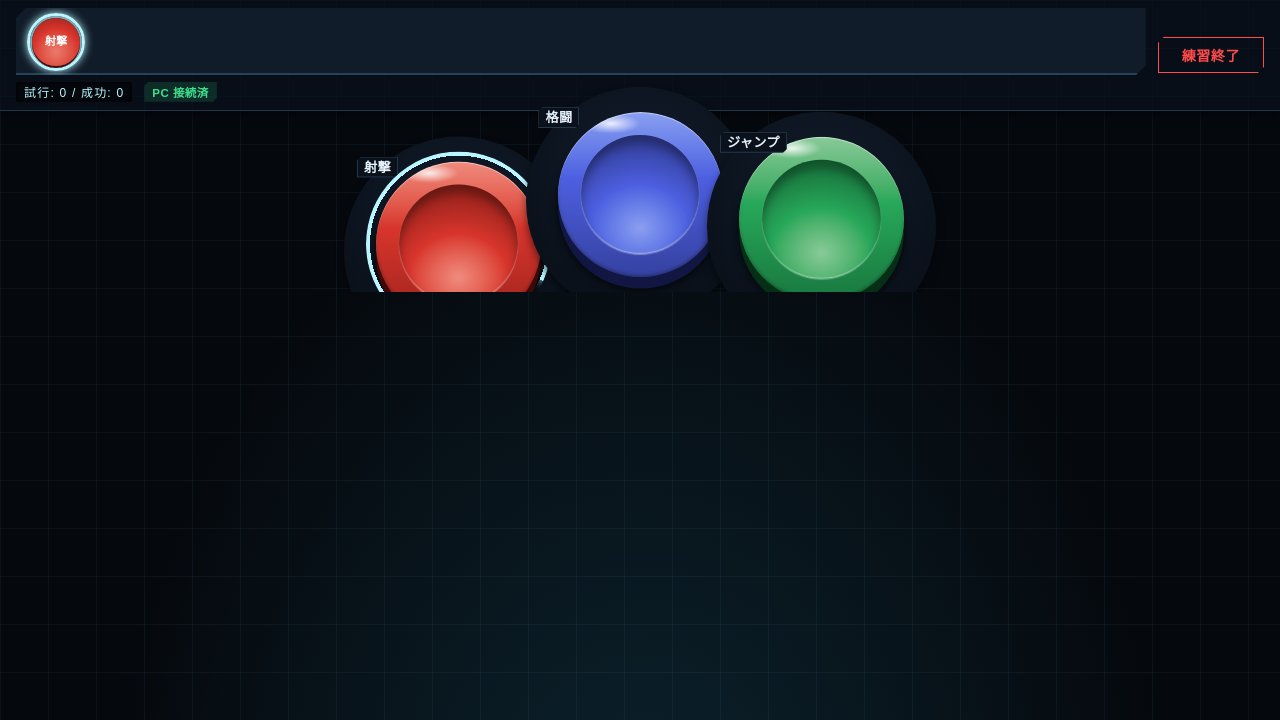
it: PracticeSession 入力リレー › つないでいれば接続状態を出し、生入力と解釈済み入力を送る
Expected: the button with test id "relay-status" reads "PC 接続済", [144,82,217,102]
Press the mouse on the button "射撃" at x=458, y=244, box [376,162,541,327]
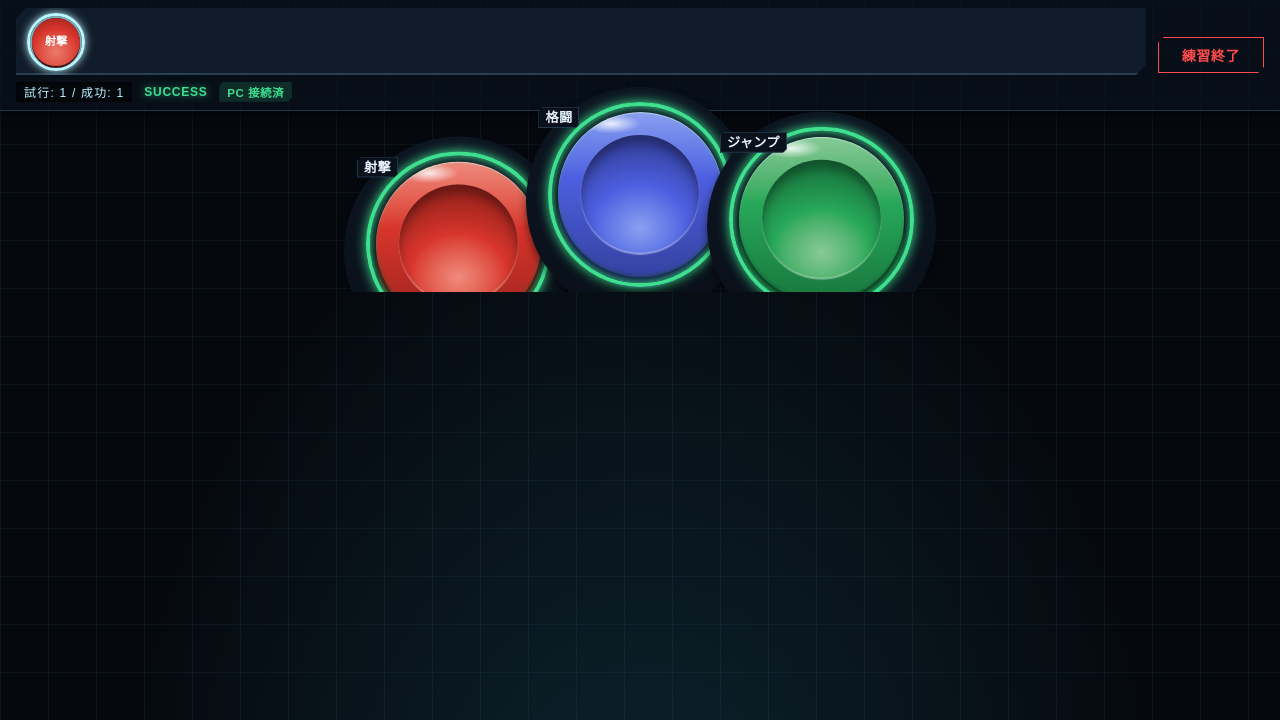
Result: the text "SUCCESS" is shown at [144,85,207,99]
